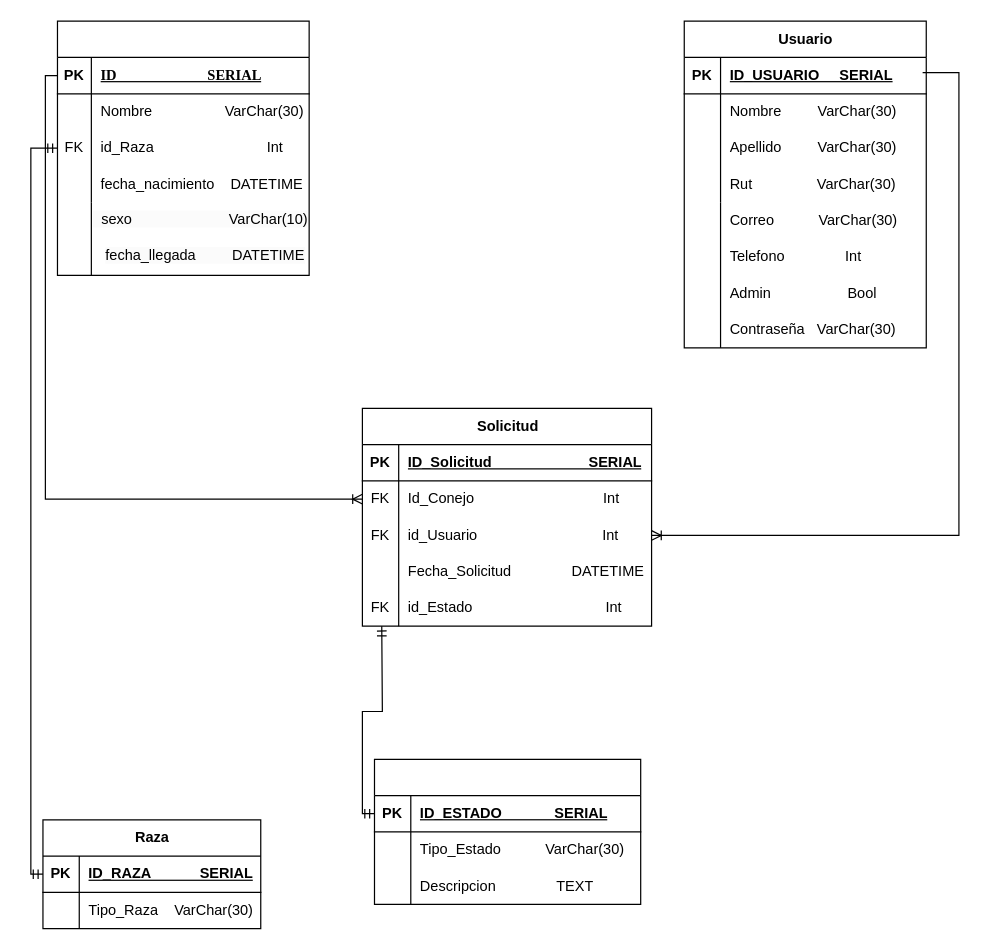
This 990x950 diagram has some shape labels left out. The shapes that lost their labels are listed below. From the top down, each one's box as (x1, y1, x2, y2) in pixels, then its label:
(56, 20, 309, 275): Conejo
(373, 758, 641, 904): Estado_Solicitud
